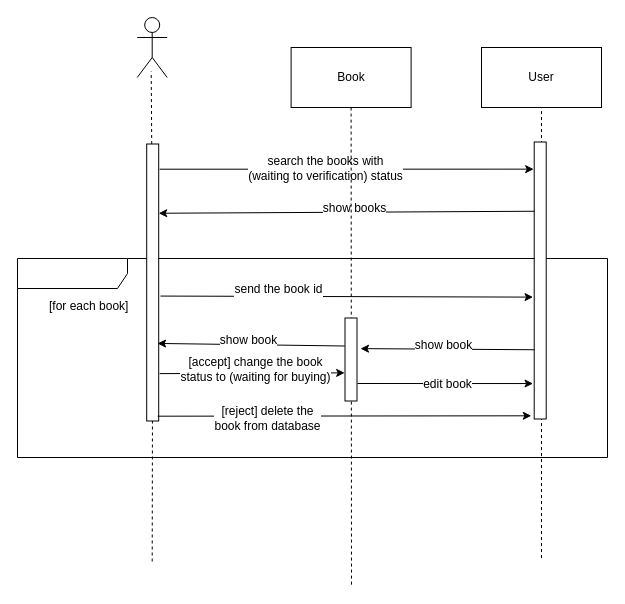
The diagram is 625 pixels wide and 604 high, and some of its shapes have lost their labels. The box of each missing label's shape, as (x1, y1, x2, y2) in pixels:
Loop: (16, 258, 608, 458)
manager: (136, 16, 167, 78)
